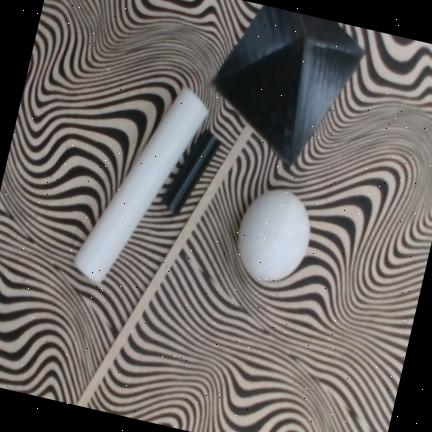Cilindro: (72, 86, 209, 285), (162, 131, 221, 217)
Esfera: (238, 191, 310, 282)
Piramide: (211, 6, 365, 167)
